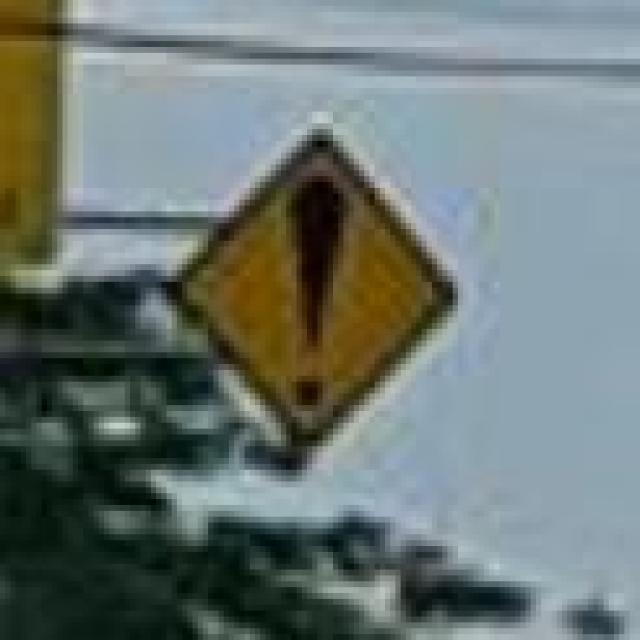traffic sign: (182, 129, 442, 428)
